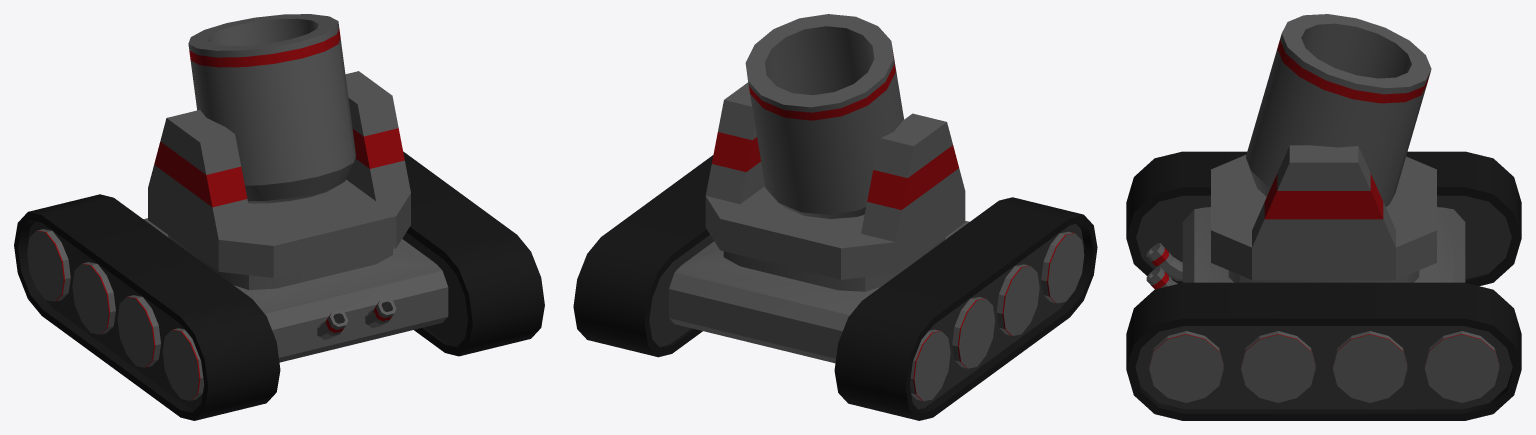
Rendered from M6 - Mortar.glb.
3 views of the same model, side by side, from view 1: azimuth 30°, elevation 25°; view 2: azimuth 150°, elevation 25°; view 3: azimuth 270°, elevation 25° (orthographic). The views are drawn at different scales.
Parts seen in each view (by area): view 1: Tracks, Turret, Barrel, Base, Track Gear.002, Track Gear.001, Track Gear.003, Track Gear, Exhaust; view 2: Tracks, Turret, Barrel, Base, Track Gear.003, Track Gear, Track Gear.002, Track Gear.001; view 3: Tracks, Turret, Barrel, Base, Track Gear, Track Gear.002, Track Gear.003, Track Gear.001, Exhaust.
Boxes of the visible parts, <box> form: Tracks: <box>14,151,544,420</box>; Turret: <box>148,71,410,277</box>; Barrel: <box>188,14,355,203</box>; Base: <box>143,218,448,362</box>; Track Gear.002: <box>72,262,115,334</box>; Track Gear.001: <box>27,229,70,301</box>; Track Gear.003: <box>117,295,160,367</box>; Track Gear: <box>162,328,204,400</box>; Exhaust: <box>317,298,396,339</box>; Tracks: <box>573,155,1097,420</box>; Turret: <box>705,82,965,279</box>; Barrel: <box>745,14,903,218</box>; Base: <box>669,221,969,363</box>; Track Gear.003: <box>996,264,1039,335</box>; Track Gear: <box>1041,231,1084,303</box>; Track Gear.002: <box>952,297,994,368</box>; Track Gear.001: <box>909,329,950,401</box>; Tracks: <box>1126,151,1521,420</box>; Turret: <box>1211,145,1436,280</box>; Barrel: <box>1245,14,1431,206</box>; Base: <box>1182,207,1465,282</box>; Track Gear: <box>1149,331,1223,402</box>; Track Gear.002: <box>1332,331,1407,402</box>; Track Gear.003: <box>1241,331,1315,402</box>; Track Gear.001: <box>1424,331,1499,402</box>; Exhaust: <box>1146,243,1182,289</box>.
Size of the model in its own units: 1.4 by 1.19 by 1.4.
